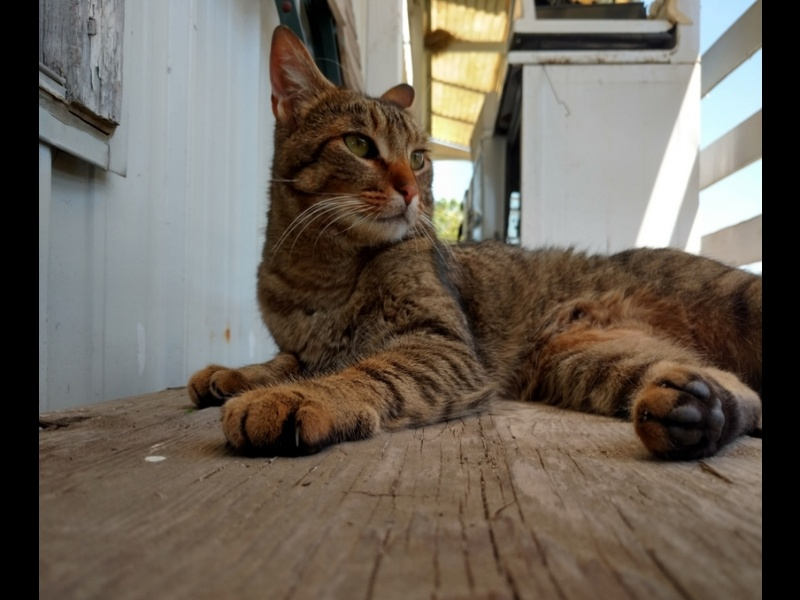cat: (187, 21, 760, 458)
